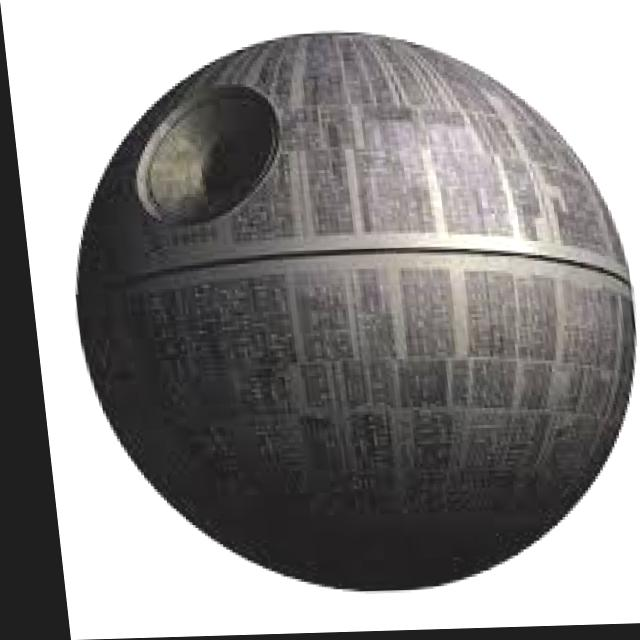deathStar: (46, 30, 640, 597)
